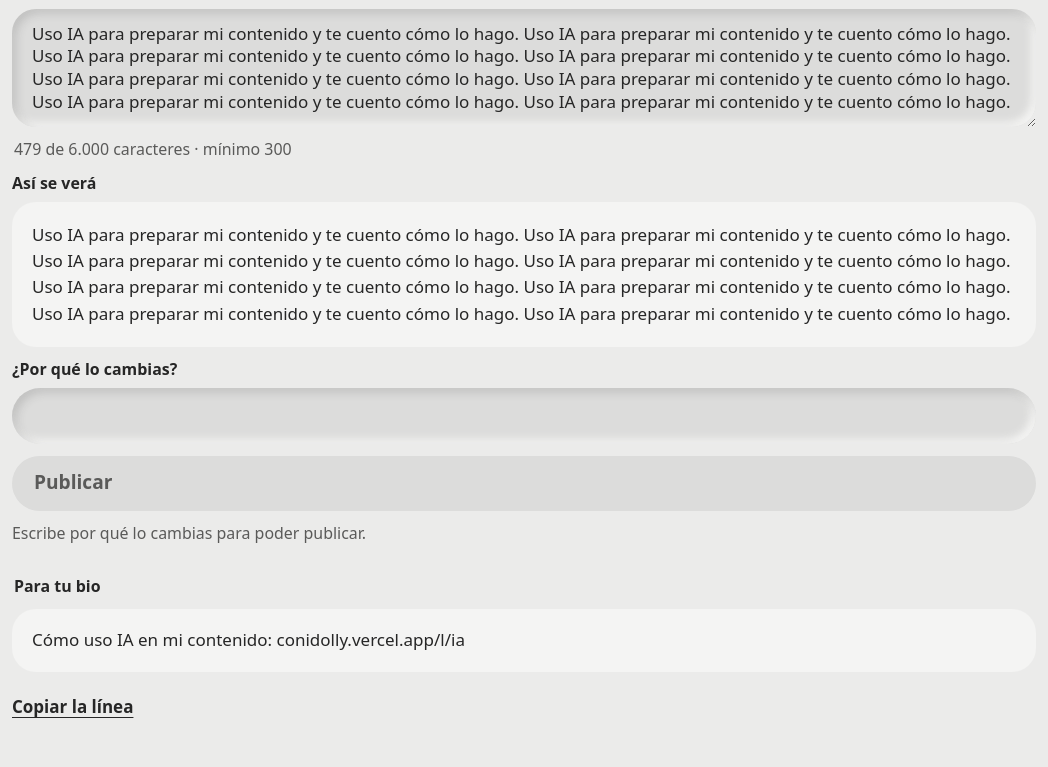
Test: EditorDePaginaDeIa › copies the line for her bios
(page scrolled)
Expected: the text "Cómo uso IA en mi contenido: conidolly.vercel.app/l/ia" is shown, [32, 628, 465, 651]
Click the button "Copiar la línea". click: click(73, 707)
box: [12, 684, 1036, 731]
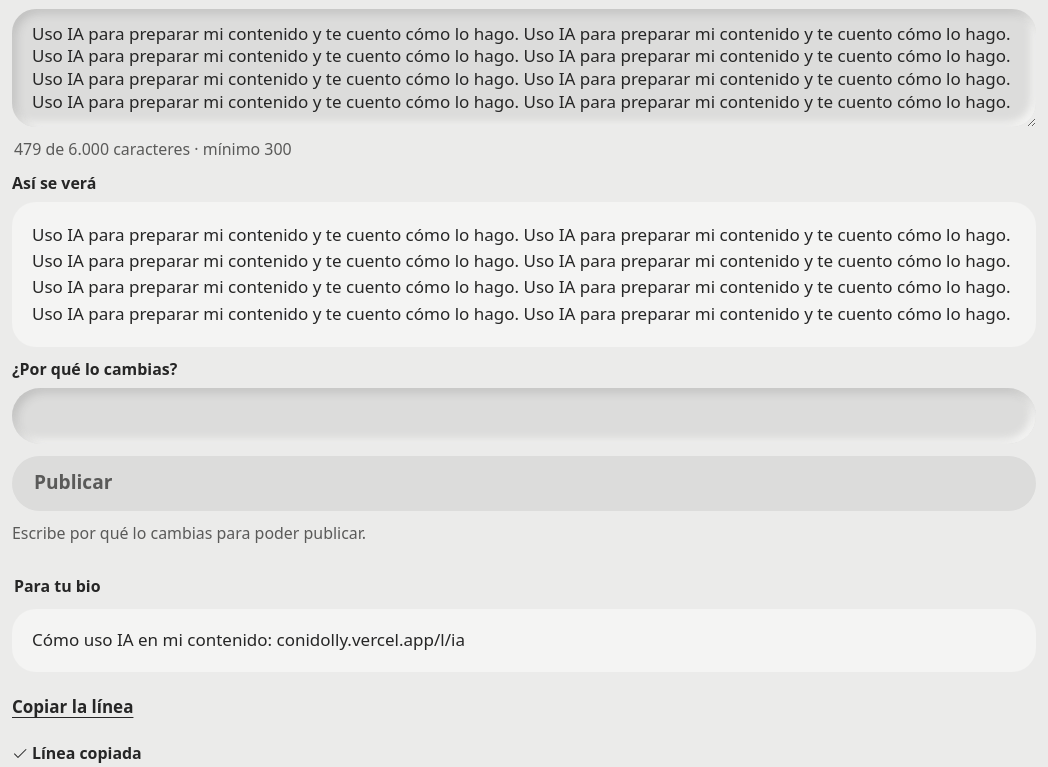
Expected: the text "Línea copiada" is shown, [12, 743, 142, 764]
